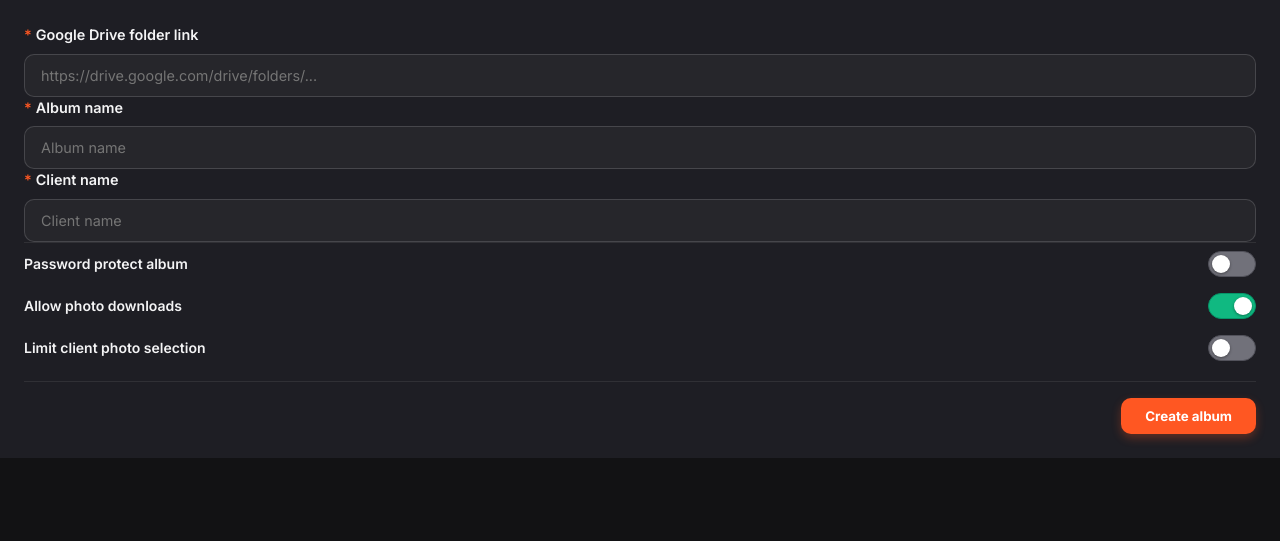
it: CreateAlbumForm › shows a network error and re-enables the button when fetch rejects
Type "https://drive.google.com/drive/folders/456DEF" into the field labelled "Google Drive folder link".
click(640, 75); type("https://drive.google.com/drive/folders/456DEF")  # box x1=24 y1=54 x2=1256 y2=97
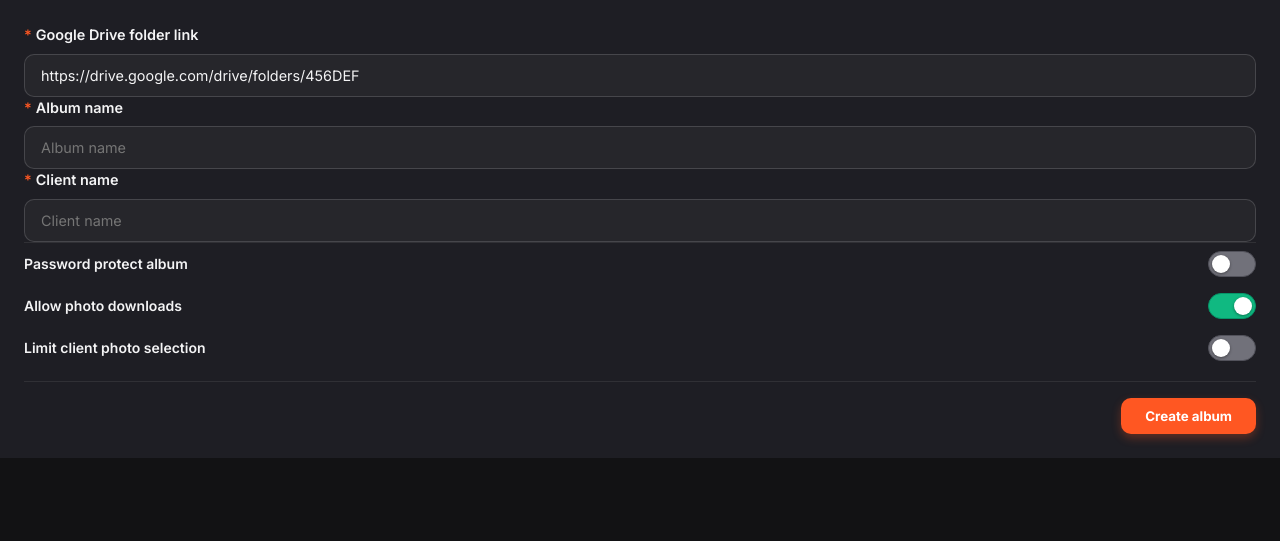
Click the button "Create album".
click(1189, 416)  # box x1=1121 y1=398 x2=1256 y2=434
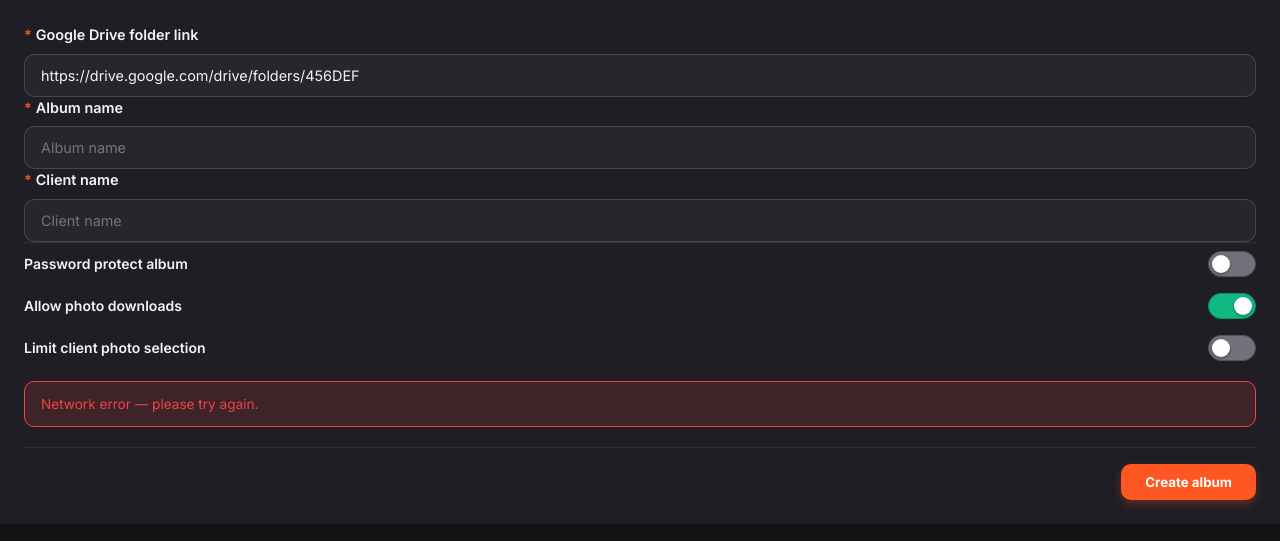
Expected: the button "Create album" is shown, x1=1121 y1=464 x2=1256 y2=500
Expected: the message reads "Network error — please try again.", x1=41 y1=396 x2=258 y2=412
